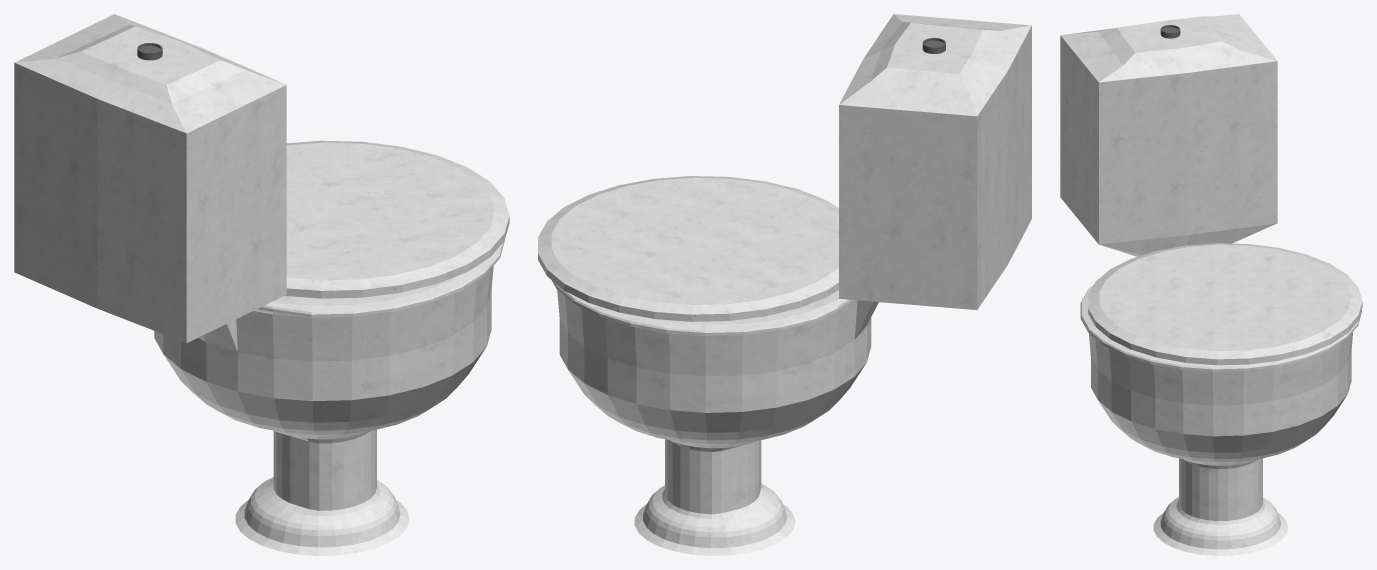
File: vater2.fbx
3 views of the same model, side by side, from view 1: azimuth 30°, elevation 25°; view 2: azimuth 150°, elevation 25°; view 3: azimuth 270°, elevation 25° (orthographic). The views are drawn at different scales.
Visible parts, largest first — view 1: toilet2:Mesh; view 2: toilet2:Mesh; view 3: toilet2:Mesh.
Part boxes in pixels (x1,y1,x2,y2): toilet2:Mesh: (14, 14, 509, 555); toilet2:Mesh: (538, 14, 1031, 555); toilet2:Mesh: (1060, 14, 1362, 555).
Size of the model in its own units: 4.3 by 4.85 by 3.16.
3 materials, 1 textured.
